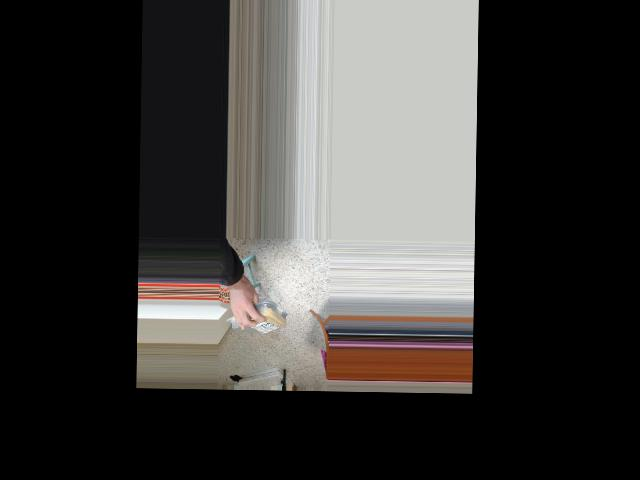cheese: (243, 305, 288, 335)
